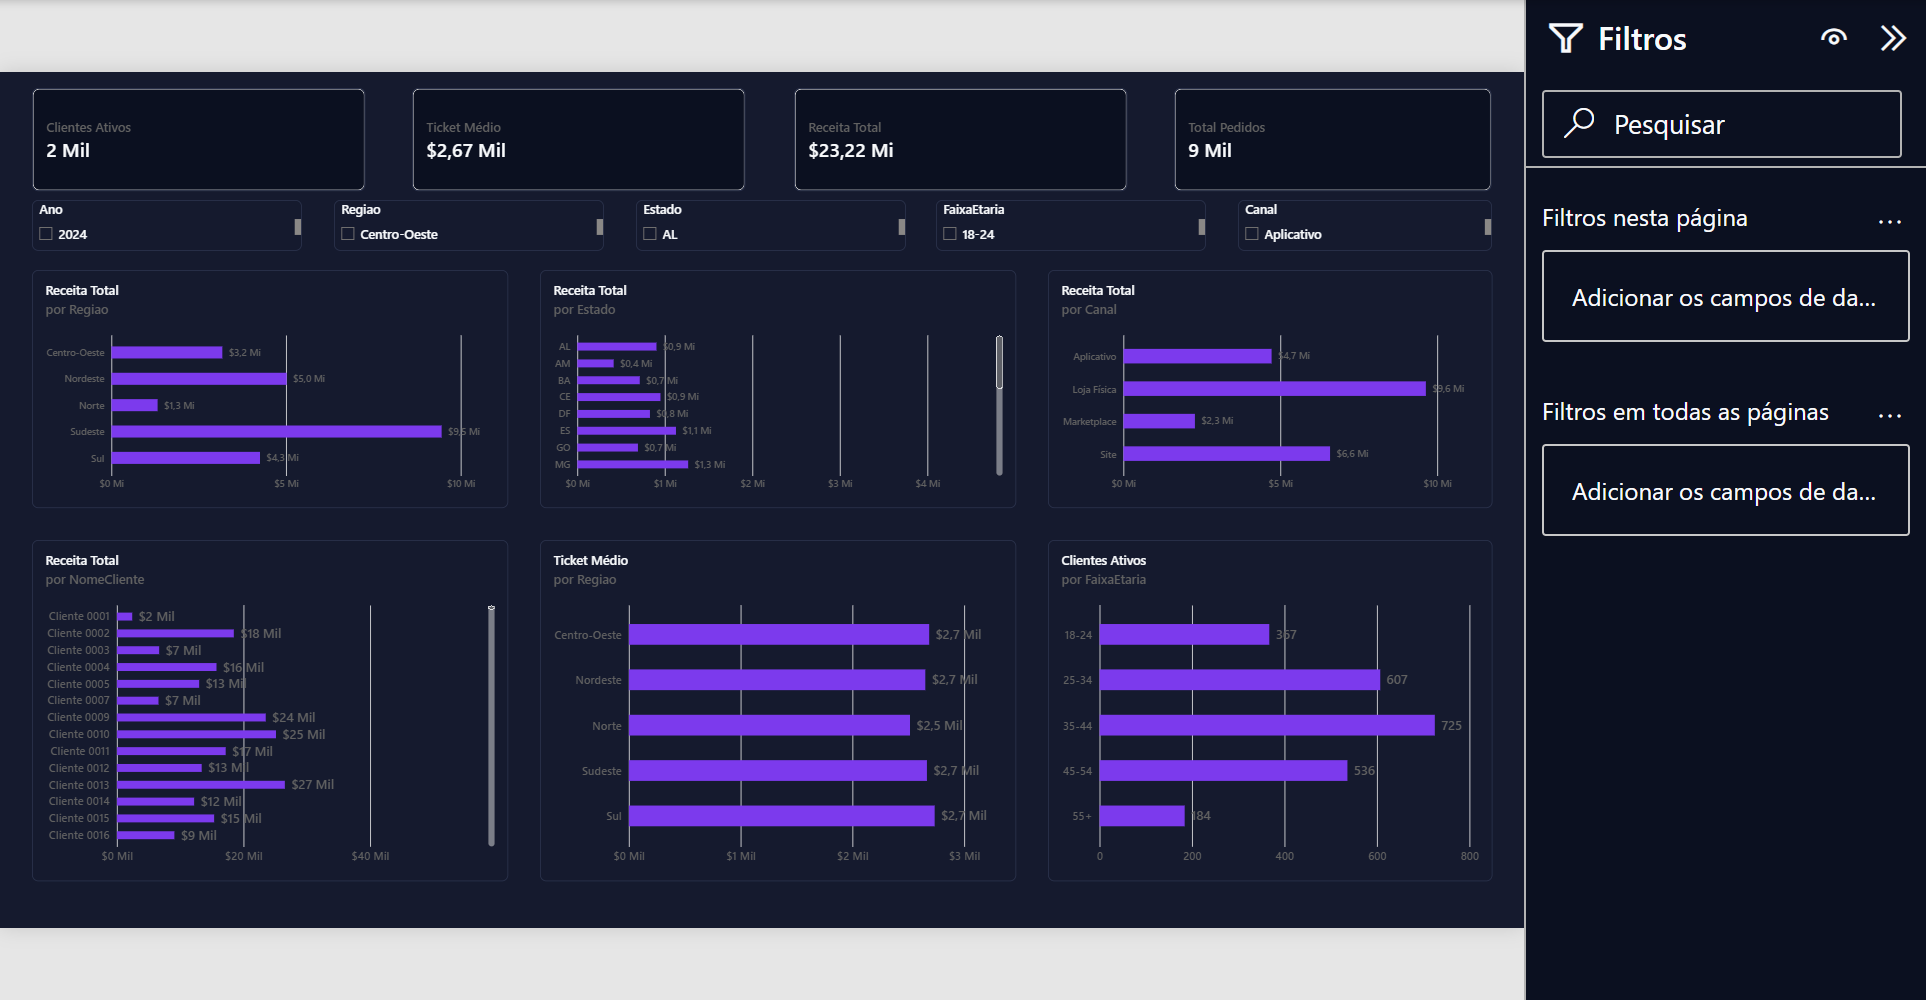

The page's visual inventory and layout, read from the dashboard file:
{"tool":"powerbi","page":{"name":"Clientes & Mercado","canvas":[1920,1080],"ordinal":2},"visuals":[{"type":"cardVisual","fields":{"Data":["_Medidas.Clientes Ativos"]},"box":[40,20,420,130],"z":1000},{"type":"cardVisual","fields":{"Data":["_Medidas.Ticket Médio"]},"box":[520,20,420,130],"z":1001},{"type":"cardVisual","fields":{"Data":["_Medidas.Receita Total"]},"box":[1000,20,420,130],"z":1002},{"type":"cardVisual","fields":{"Data":["_Medidas.Total Pedidos"]},"box":[1480,20,400,130],"z":1003},{"type":"barChart","fields":{"Category":["dClientes.Regiao"],"Y":["_Medidas.Receita Total"]},"box":[40,250,600,300],"z":2000},{"type":"barChart","fields":{"Category":["dClientes.Estado"],"Y":["_Medidas.Receita Total"]},"box":[680,250,600,300],"z":3000},{"type":"barChart","fields":{"Category":["dClientes.NomeCliente"],"Y":["_Medidas.Receita Total"]},"box":[40,590,600,430],"z":4000},{"type":"barChart","fields":{"Category":["dClientes.Regiao"],"Y":["_Medidas.Ticket Médio"]},"box":[680,590,600,430],"z":5000},{"type":"barChart","fields":{"Category":["dClientes.FaixaEtaria"],"Y":["_Medidas.Clientes Ativos"]},"box":[1320,590,560,430],"z":6000},{"type":"barChart","fields":{"Category":["dCanal.Canal"],"Y":["_Medidas.Receita Total"]},"box":[1320,250,560,300],"z":7000},{"type":"slicer","fields":{"Values":["dCalendario.Ano"]},"box":[40,160,340,64],"z":8000},{"type":"slicer","fields":{"Values":["dClientes.Regiao"]},"box":[420,160,340,64],"z":8001},{"type":"slicer","fields":{"Values":["dClientes.Estado"]},"box":[800,160,340,64],"z":8002},{"type":"slicer","fields":{"Values":["dClientes.FaixaEtaria"]},"box":[1180,160,340,64],"z":8003},{"type":"slicer","fields":{"Values":["dCanal.Canal"]},"box":[1560,160,320,64],"z":8004}]}

Visuals, with their boxes on the page's 1920x1080 design canvas (x1, y1, x2, y2). These are canvas units, not pixel positions in the 1926x1000 screenshot, which may show the page scaled, cropped or inside an application window:
cardVisual - _Medidas.Clientes Ativos: (left=40, top=20, right=460, bottom=150)
cardVisual - _Medidas.Ticket Médio: (left=520, top=20, right=940, bottom=150)
cardVisual - _Medidas.Receita Total: (left=1000, top=20, right=1420, bottom=150)
cardVisual - _Medidas.Total Pedidos: (left=1480, top=20, right=1880, bottom=150)
barChart - dClientes.Regiao x _Medidas.Receita Total: (left=40, top=250, right=640, bottom=550)
barChart - dClientes.Estado x _Medidas.Receita Total: (left=680, top=250, right=1280, bottom=550)
barChart - dClientes.NomeCliente x _Medidas.Receita Total: (left=40, top=590, right=640, bottom=1020)
barChart - dClientes.Regiao x _Medidas.Ticket Médio: (left=680, top=590, right=1280, bottom=1020)
barChart - dClientes.FaixaEtaria x _Medidas.Clientes Ativos: (left=1320, top=590, right=1880, bottom=1020)
barChart - dCanal.Canal x _Medidas.Receita Total: (left=1320, top=250, right=1880, bottom=550)
slicer - dCalendario.Ano: (left=40, top=160, right=380, bottom=224)
slicer - dClientes.Regiao: (left=420, top=160, right=760, bottom=224)
slicer - dClientes.Estado: (left=800, top=160, right=1140, bottom=224)
slicer - dClientes.FaixaEtaria: (left=1180, top=160, right=1520, bottom=224)
slicer - dCanal.Canal: (left=1560, top=160, right=1880, bottom=224)
